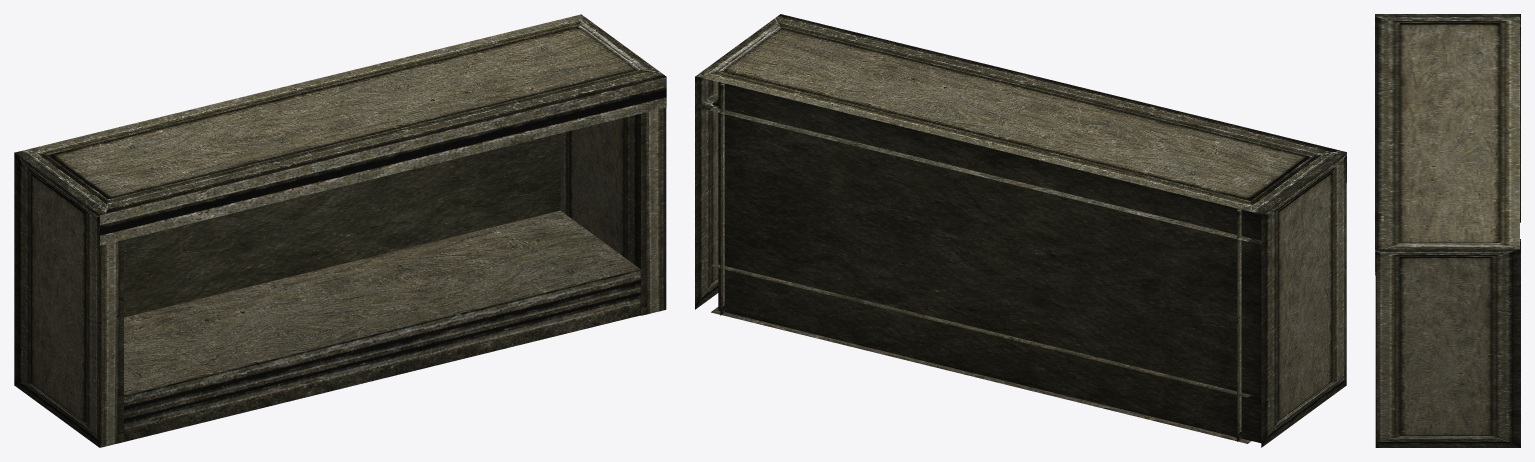
Rendered from mm9_deco_weaponscabinet03s3.glb.
The picture shows the model from 3 angles, left to right: view 1: azimuth 30°, elevation 25°; view 2: azimuth 150°, elevation 25°; view 3: azimuth 270°, elevation 25°; orthographic projection. The views are drawn at different scales.
Parts seen in each view (by area): view 1: Weaponscabinet03s3; view 2: Weaponscabinet03s3; view 3: Weaponscabinet03s3.
Part boxes in pixels (x1,y1,x2,y2): Weaponscabinet03s3: [14, 14, 666, 447]; Weaponscabinet03s3: [695, 14, 1346, 447]; Weaponscabinet03s3: [1375, 14, 1520, 447].
Size of the model in its own units: 3.76 by 1.48 by 0.9834.
Materials: 1 (1 with a texture image).
